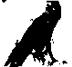Owl: (4, 1, 64, 67)
